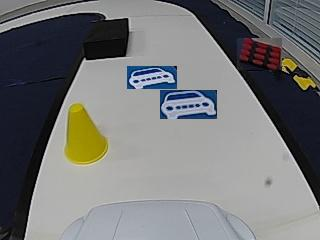block: (84, 17, 128, 59)
cone: (64, 103, 108, 165)
